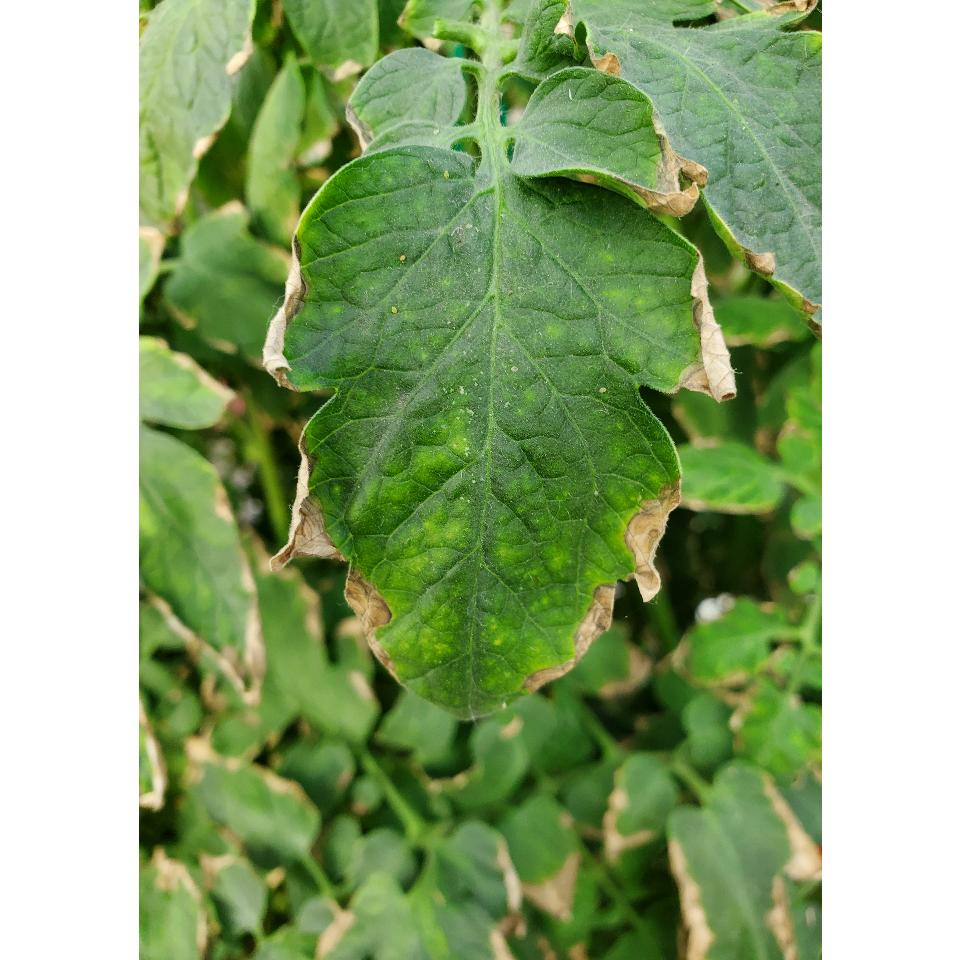tomato_bacterial_blight: (251, 135, 747, 732)
